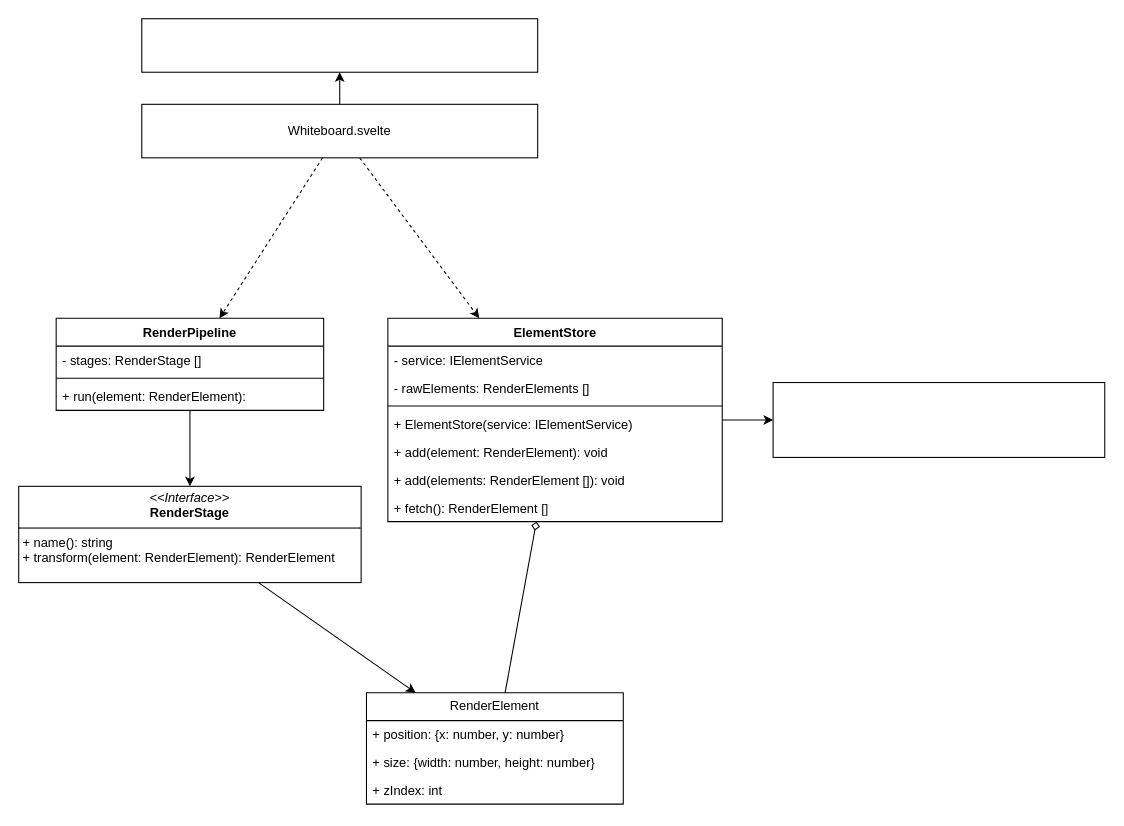
Some shapes in this 1124 by 826 pixel diagram are drawn without their labels. The centre of each missing label's shape, as x and y in pixels:
<<Interface>> IElementService + getWhiteboardElements(): RenderElement[]: the point at 938,419
ElementComponentFactory.svelte: the point at 339,45
